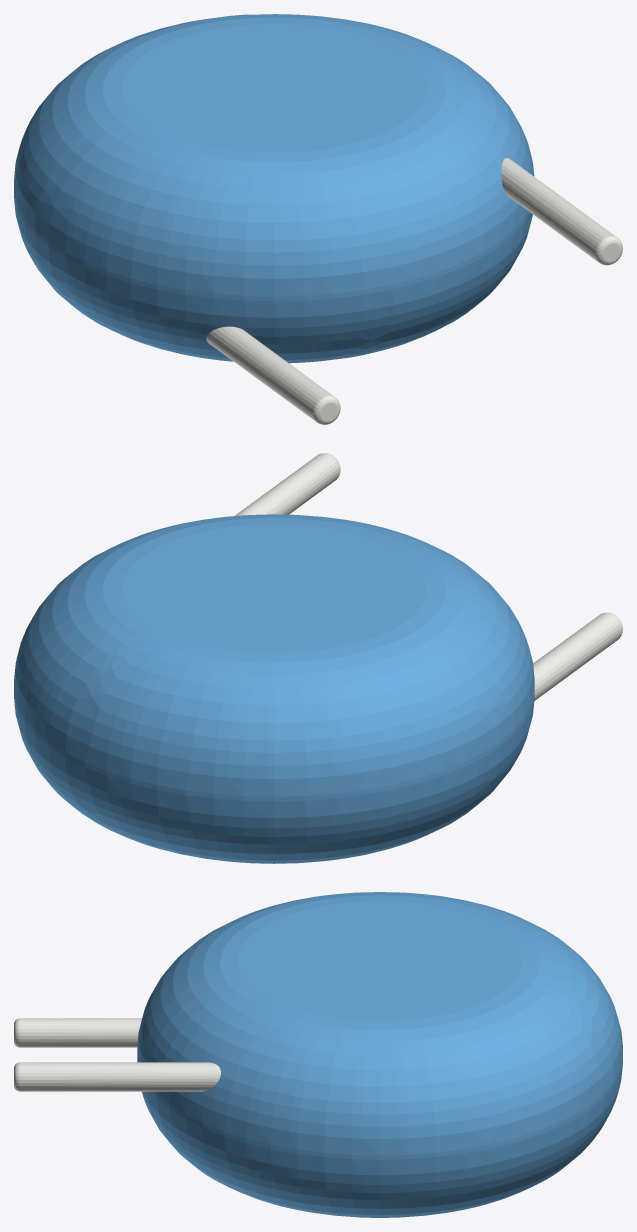
Rendered from RV_Disc_D12mm_W5.1mm_P7.5mm.glb.
The picture shows the model from 3 angles, top to bottom: view 1: azimuth 30°, elevation 25°; view 2: azimuth 150°, elevation 25°; view 3: azimuth 270°, elevation 25°; orthographic projection. The views are drawn at different scales.
Parts seen in each view (by area): view 1: Shape_IndexedFaceSet.001, Shape_IndexedFaceSet.003, Shape_IndexedFaceSet.002, Shape_IndexedFaceSet.006, Shape_IndexedFaceSet.004, Shape_IndexedFaceSet; view 2: Shape_IndexedFaceSet.001, Shape_IndexedFaceSet.003, Shape_IndexedFaceSet.002, Shape_IndexedFaceSet.006, Shape_IndexedFaceSet, Shape_IndexedFaceSet.004; view 3: Shape_IndexedFaceSet.001, Shape_IndexedFaceSet.003, Shape_IndexedFaceSet.002, Shape_IndexedFaceSet.004, Shape_IndexedFaceSet.006, Shape_IndexedFaceSet.
Boxes of the visible parts, left/top/right/bottom form: Shape_IndexedFaceSet.001: left=14, top=14, right=534, bottom=296; Shape_IndexedFaceSet.003: left=122, top=24, right=426, bottom=152; Shape_IndexedFaceSet.002: left=14, top=198, right=532, bottom=363; Shape_IndexedFaceSet.006: left=206, top=326, right=332, bottom=421; Shape_IndexedFaceSet.004: left=501, top=158, right=615, bottom=261; Shape_IndexedFaceSet: left=14, top=193, right=529, bottom=301; Shape_IndexedFaceSet.001: left=14, top=514, right=534, bottom=796; Shape_IndexedFaceSet.003: left=121, top=524, right=426, bottom=653; Shape_IndexedFaceSet.002: left=14, top=698, right=534, bottom=863; Shape_IndexedFaceSet.006: left=533, top=613, right=621, bottom=700; Shape_IndexedFaceSet: left=14, top=693, right=534, bottom=801; Shape_IndexedFaceSet.004: left=235, top=453, right=339, bottom=515; Shape_IndexedFaceSet.001: left=137, top=892, right=622, bottom=1155; Shape_IndexedFaceSet.003: left=238, top=901, right=522, bottom=1021; Shape_IndexedFaceSet.002: left=142, top=1064, right=622, bottom=1217; Shape_IndexedFaceSet.004: left=20, top=1062, right=220, bottom=1091; Shape_IndexedFaceSet.006: left=20, top=1018, right=141, bottom=1047; Shape_IndexedFaceSet: left=137, top=1059, right=622, bottom=1159.
Size of the model in its own units: 4.72 by 2.01 by 5.91.
